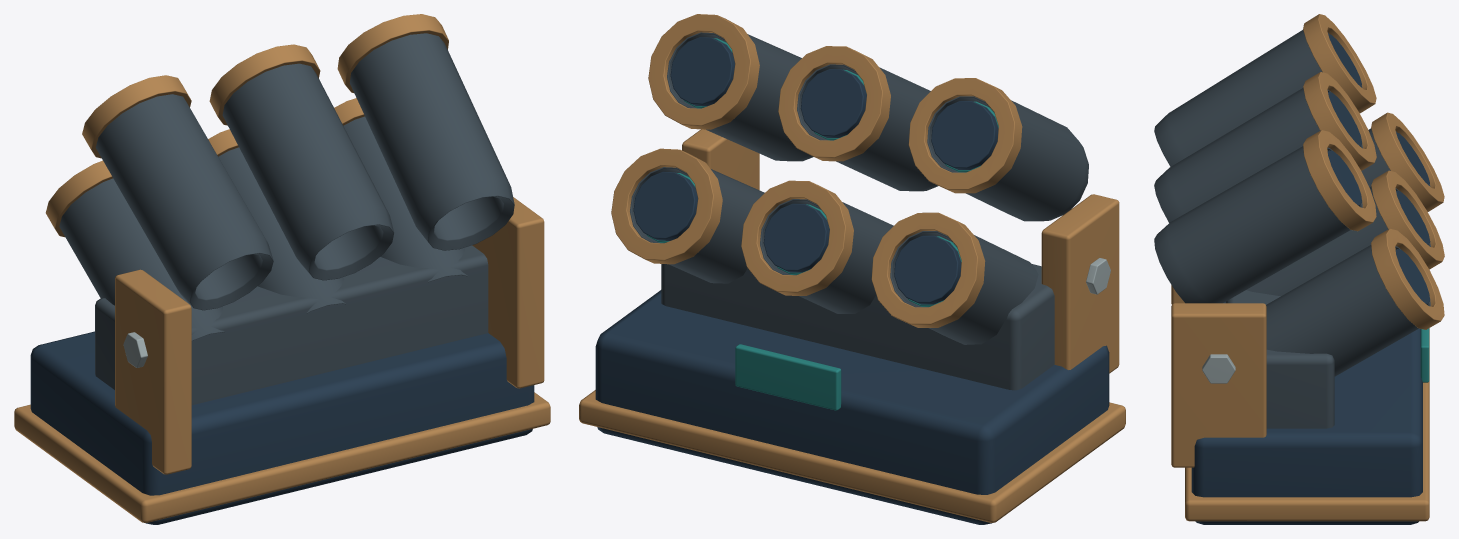
The model's file is smoke_launcher.glb.
3 views of the same model, side by side, from view 1: azimuth 30°, elevation 25°; view 2: azimuth 150°, elevation 25°; view 3: azimuth 270°, elevation 25° (orthographic). The views are drawn at different scales.
Parts seen in each view (by area): view 1: smoke_launcher__base, smoke_launcher__bank_support, smoke_launcher__launch_tube_5, smoke_launcher__launch_tube_4, smoke_launcher__launch_tube_3, smoke_launcher__base_trim, smoke_launcher__side_bracket_neg0p28, smoke_launcher__side_bracket_0p28, smoke_launcher__launch_tube_0, smoke_launcher__launch_tube_2, smoke_launcher__launch_tube_1, smoke_launcher__tube_rim_4 (+4 smaller); view 2: smoke_launcher__base, smoke_launcher__bank_support, smoke_launcher__base_trim, smoke_launcher__side_bracket_neg0p28, smoke_launcher__launch_tube_3, smoke_launcher__tube_rim_3, smoke_launcher__tube_rim_4, smoke_launcher__tube_rim_5, smoke_launcher__tube_rim_2, smoke_launcher__tube_rim_1, smoke_launcher__tube_rim_0, smoke_launcher__launch_tube_5 (+13 smaller); view 3: smoke_launcher__base, smoke_launcher__launch_tube_5, smoke_launcher__side_bracket_0p28, smoke_launcher__launch_tube_2, smoke_launcher__launch_tube_4, smoke_launcher__launch_tube_3, smoke_launcher__base_trim, smoke_launcher__bank_support, smoke_launcher__tube_rim_5, smoke_launcher__tube_rim_2, smoke_launcher__launch_tube_1, smoke_launcher__tube_rim_3 (+12 smaller).
Boxes of the visible parts, <box> form: smoke_launcher__base: <box>30,331,534,524</box>; smoke_launcher__bank_support: <box>95,245,488,405</box>; smoke_launcher__launch_tube_5: <box>349,33,514,250</box>; smoke_launcher__launch_tube_4: <box>222,63,394,280</box>; smoke_launcher__launch_tube_3: <box>95,94,273,310</box>; smoke_launcher__base_trim: <box>14,392,550,522</box>; smoke_launcher__side_bracket_neg0p28: <box>115,269,191,474</box>; smoke_launcher__side_bracket_0p28: <box>472,197,544,388</box>; smoke_launcher__launch_tube_0: <box>59,178,224,340</box>; smoke_launcher__launch_tube_2: <box>343,116,467,282</box>; smoke_launcher__launch_tube_1: <box>218,147,345,313</box>; smoke_launcher__tube_rim_4: <box>209,44,320,125</box>; smoke_launcher__base: <box>595,290,1109,524</box>; smoke_launcher__bank_support: <box>661,264,1054,390</box>; smoke_launcher__base_trim: <box>579,390,1125,522</box>; smoke_launcher__side_bracket_neg0p28: <box>1041,194,1119,373</box>; smoke_launcher__launch_tube_3: <box>927,96,1088,221</box>; smoke_launcher__tube_rim_3: <box>908,78,1022,193</box>; smoke_launcher__tube_rim_4: <box>778,46,890,161</box>; smoke_launcher__tube_rim_5: <box>648,14,759,129</box>; smoke_launcher__tube_rim_2: <box>611,148,722,264</box>; smoke_launcher__tube_rim_1: <box>741,180,853,295</box>; smoke_launcher__tube_rim_0: <box>871,212,985,327</box>; smoke_launcher__launch_tube_5: <box>667,32,813,161</box>; smoke_launcher__base: <box>1191,302,1422,524</box>; smoke_launcher__launch_tube_5: <box>1154,146,1362,303</box>; smoke_launcher__side_bracket_0p28: <box>1171,303,1266,467</box>; smoke_launcher__launch_tube_2: <box>1266,245,1430,376</box>; smoke_launcher__launch_tube_4: <box>1154,88,1362,222</box>; smoke_launcher__launch_tube_3: <box>1154,30,1362,166</box>; smoke_launcher__base_trim: <box>1185,328,1429,521</box>; smoke_launcher__bank_support: <box>1225,290,1334,428</box>; smoke_launcher__tube_rim_5: <box>1303,130,1376,231</box>; smoke_launcher__tube_rim_2: <box>1371,228,1444,329</box>; smoke_launcher__launch_tube_1: <box>1246,186,1430,296</box>; smoke_launcher__tube_rim_3: <box>1303,14,1376,113</box>.
Size of the model in its own units: 0.65 by 0.5892 by 0.4275.
